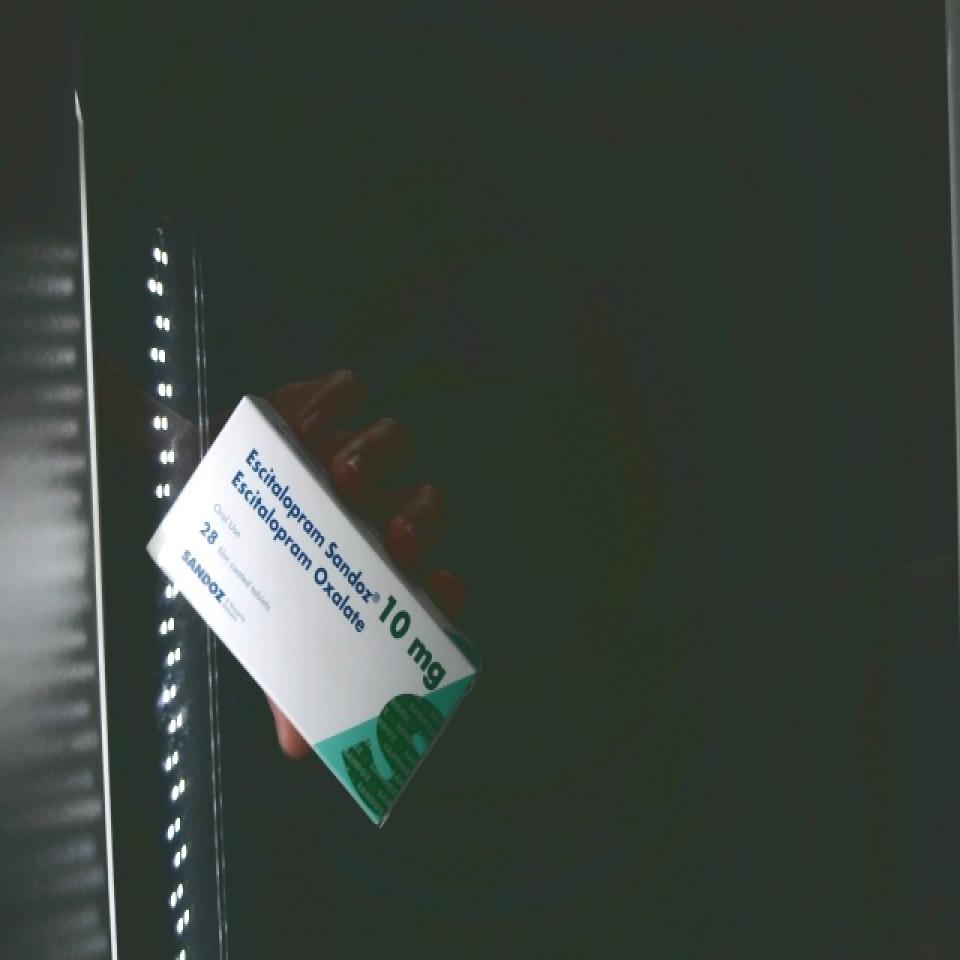medicine_box: (111, 395, 518, 829)
medicine_label_obb: (193, 412, 407, 652)
